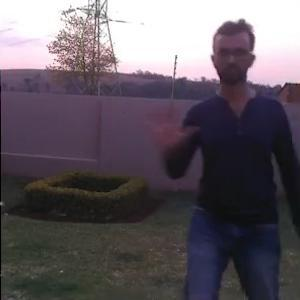follow_hand: (138, 99, 199, 154)
